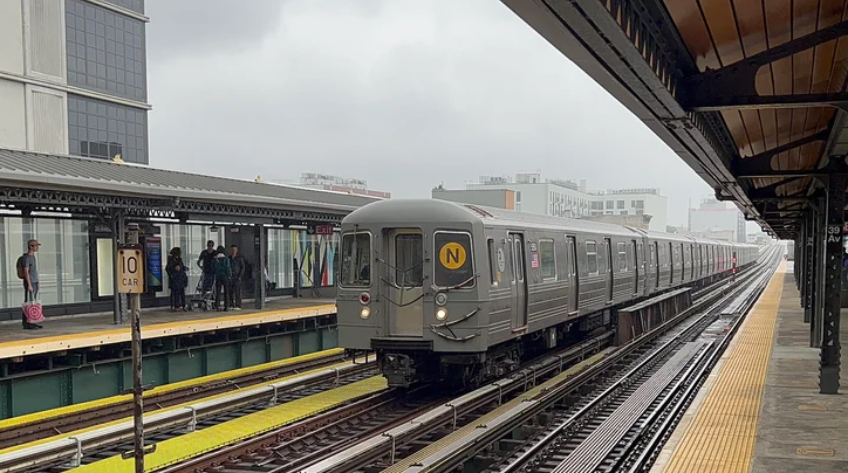train: (337, 198, 551, 351)
